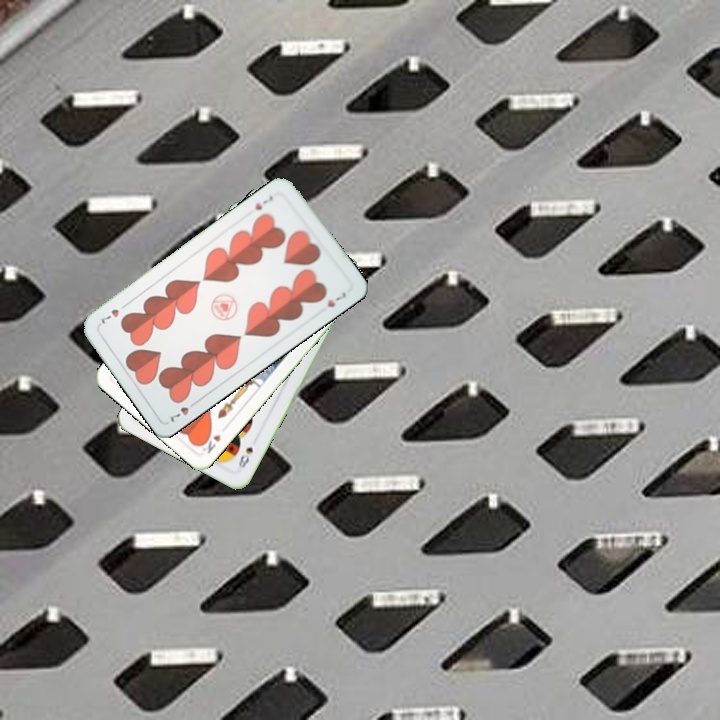H7: (165, 396, 200, 425), (251, 191, 276, 213)
HK: (199, 431, 223, 456)
S8: (232, 442, 256, 474)
